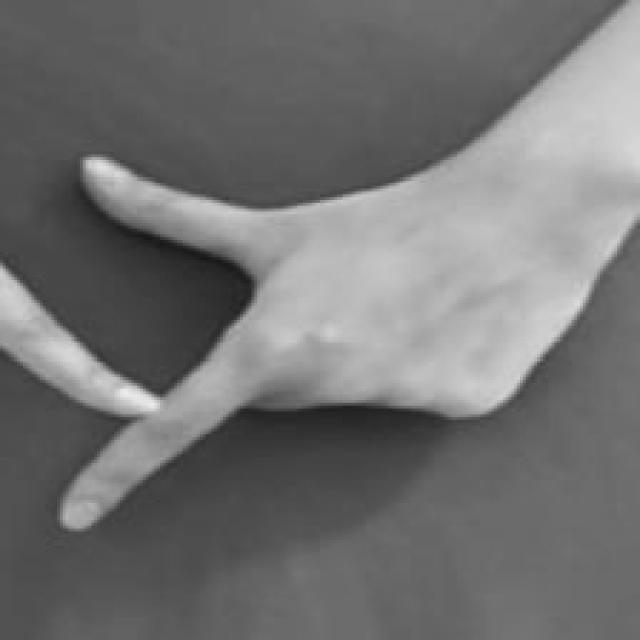F: (0, 151, 541, 533)
